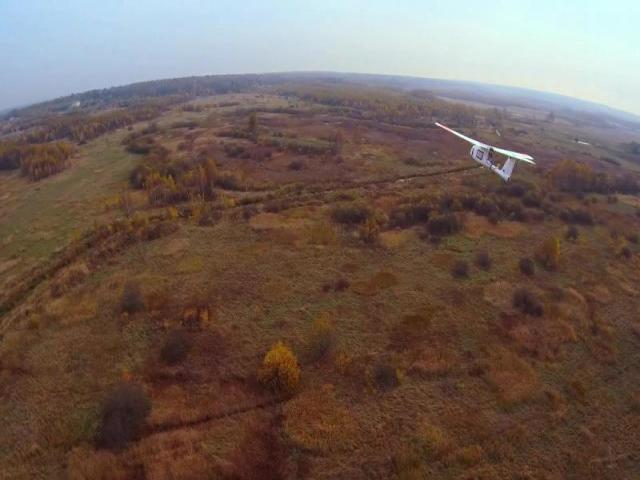hedef: (427, 110, 541, 192)
